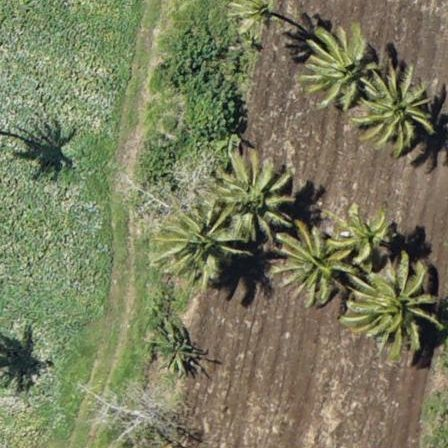palm_tree: (361, 260, 440, 344), (217, 152, 291, 231), (359, 73, 428, 146), (311, 34, 379, 106), (171, 200, 237, 270), (287, 232, 346, 296), (337, 214, 389, 269), (229, 1, 287, 38)
